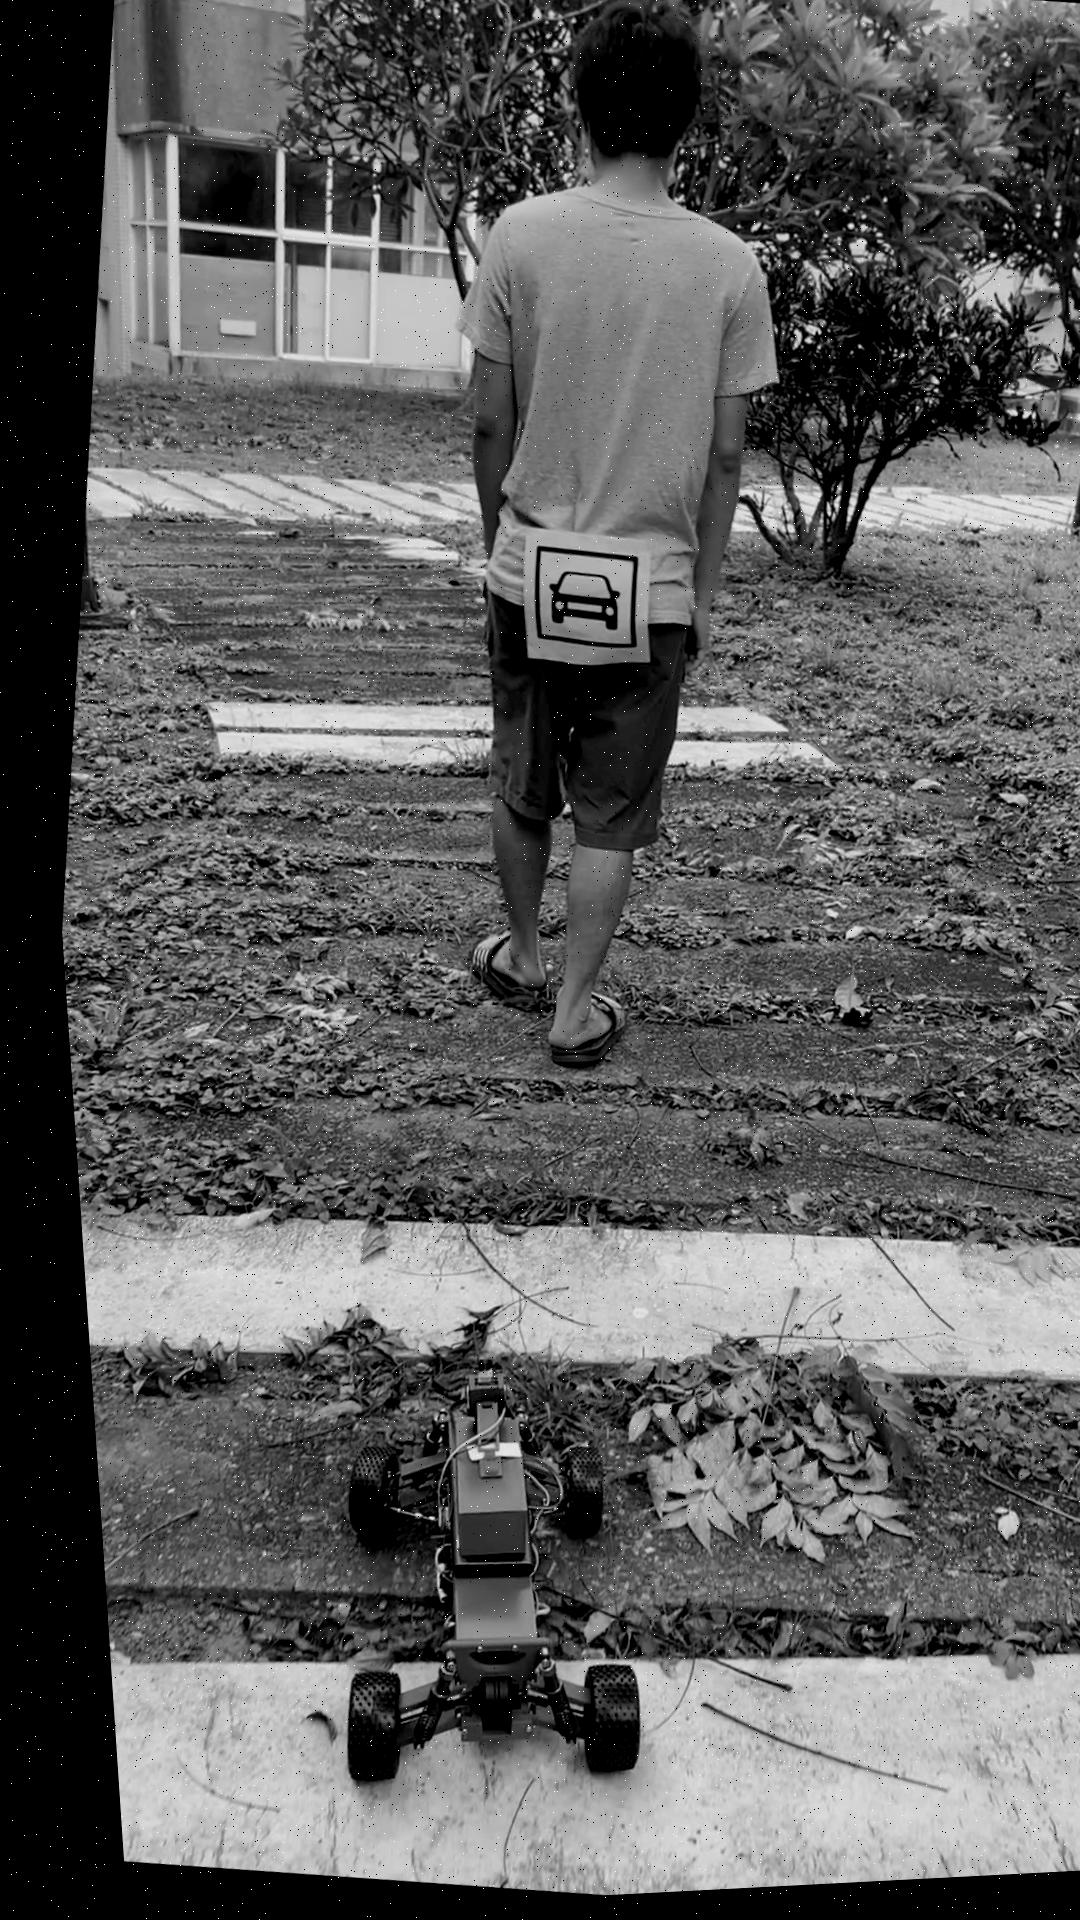car_img: (516, 546, 640, 661)
